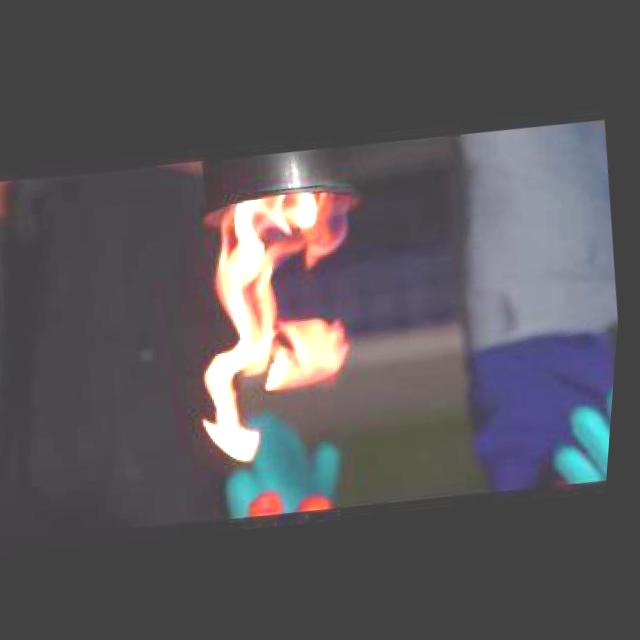Fire: (169, 171, 389, 485)
